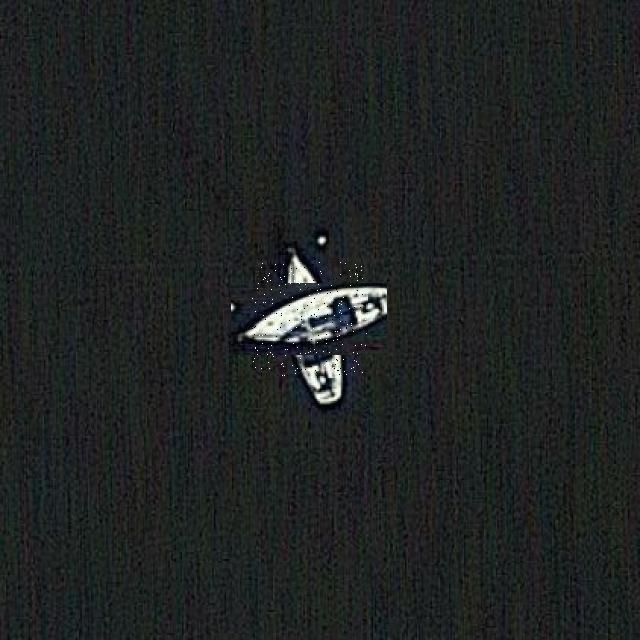boat: (252, 262, 367, 376)
